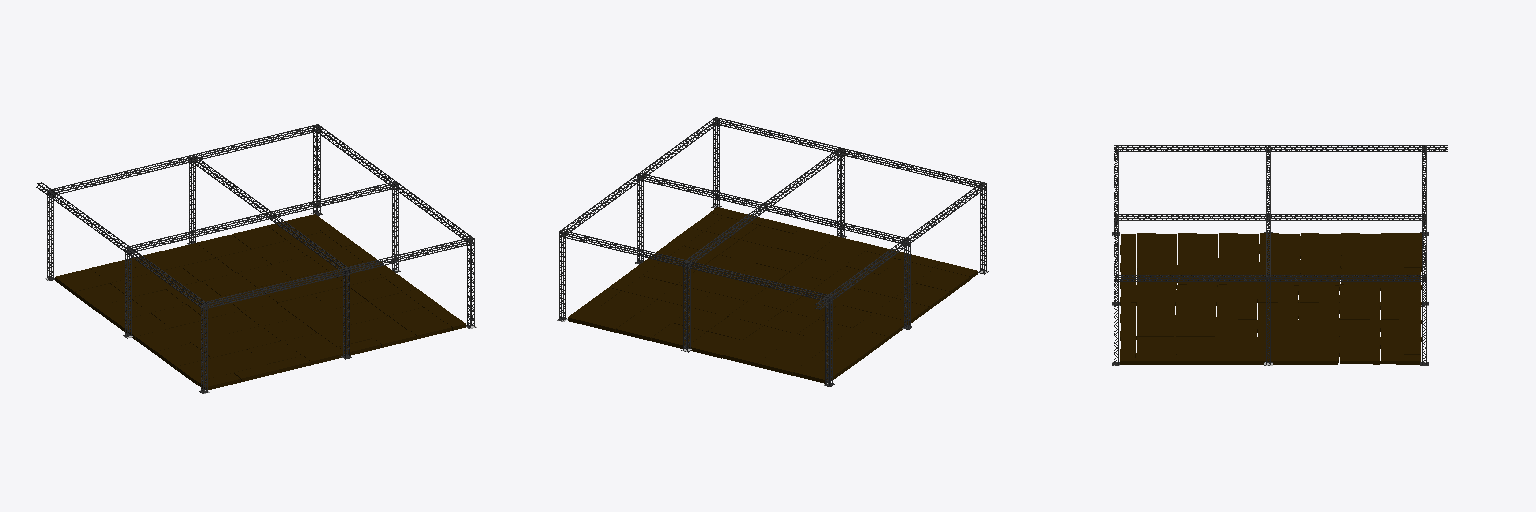
Rendered from airlab_cage.obj.
3 views of the same model, side by side, from view 1: azimuth 30°, elevation 25°; view 2: azimuth 150°, elevation 25°; view 3: azimuth 270°, elevation 25° (orthographic).
Parts seen in each view (by area): view 1: SM_foam_madress14_SM_foam_madress, SM_foam_madress26_SM_foam_madress, SM_foam_madress23_SM_foam_madress, SM_foam_madress27_SM_foam_madress, SM_foam_madress16_SM_foam_madress, SM_foam_madress54_SM_foam_madress, SM_foam_madress55_SM_foam_madress, SM_foam_madress29_SM_foam_madress, SM_foam_madress20_SM_foam_madress, SM_foam_madress30_SM_foam_madress, SM_foam_madress39_SM_foam_madress, SM_foam_madress15_SM_foam_madress (+28 smaller); view 2: SM_foam_madress17_SM_foam_madress, SM_foam_madress16_SM_foam_madress, SM_foam_madress4_SM_foam_madress, SM_foam_madress12_SM_foam_madress, SM_foam_madress13_SM_foam_madress, SM_foam_madress28_SM_foam_madress, SM_foam_madress24_SM_foam_madress, SM_foam_madress25_SM_foam_madress, SM_foam_madress14_SM_foam_madress, SM_foam_madress29_SM_foam_madress, SM_foam_madress43_SM_foam_madress, SM_foam_madress27_SM_foam_madress (+28 smaller); view 3: SM_foam_madress49_SM_foam_madress, SM_foam_madress39_SM_foam_madress, SM_foam_madress15_SM_foam_madress, SM_foam_madress30_SM_foam_madress, SM_foam_madress4_SM_foam_madress, SM_foam_madress48_SM_foam_madress, SM_foam_madress24_SM_foam_madress, SM_foam_madress50_SM_foam_madress, SM_foam_madress6_SM_foam_madress, SM_foam_madress17_SM_foam_madress, SM_foam_madress52_SM_foam_madress, SM_foam_madress26_SM_foam_madress (+28 smaller).
Boxes of the visible parts, box(x1,y1,x2,y2) form: SM_foam_madress14_SM_foam_madress: box(55, 268, 109, 294); SM_foam_madress26_SM_foam_madress: box(136, 328, 189, 354); SM_foam_madress23_SM_foam_madress: box(75, 284, 128, 309); SM_foam_madress27_SM_foam_madress: box(156, 343, 210, 369); SM_foam_madress16_SM_foam_madress: box(232, 226, 286, 249); SM_foam_madress54_SM_foam_madress: box(348, 277, 402, 300); SM_foam_madress55_SM_foam_madress: box(368, 292, 422, 315); SM_foam_madress29_SM_foam_madress: box(181, 258, 234, 281); SM_foam_madress20_SM_foam_madress: box(247, 341, 301, 364); SM_foam_madress30_SM_foam_madress: box(202, 273, 256, 295); SM_foam_madress39_SM_foam_madress: box(217, 250, 270, 272); SM_foam_madress15_SM_foam_madress: box(196, 235, 250, 257); SM_foam_madress17_SM_foam_madress: box(580, 306, 635, 332); SM_foam_madress16_SM_foam_madress: box(616, 314, 670, 340); SM_foam_madress4_SM_foam_madress: box(757, 349, 812, 375); SM_foam_madress12_SM_foam_madress: box(722, 340, 777, 366); SM_foam_madress13_SM_foam_madress: box(688, 332, 741, 358); SM_foam_madress28_SM_foam_madress: box(915, 268, 969, 294); SM_foam_madress24_SM_foam_madress: box(833, 328, 887, 354); SM_foam_madress25_SM_foam_madress: box(854, 313, 907, 339); SM_foam_madress14_SM_foam_madress: box(793, 357, 847, 383); SM_foam_madress29_SM_foam_madress: box(708, 317, 763, 339); SM_foam_madress43_SM_foam_madress: box(756, 248, 809, 271); SM_foam_madress27_SM_foam_madress: box(895, 283, 949, 309); SM_foam_madress49_SM_foam_madress: box(1176, 319, 1216, 336); SM_foam_madress39_SM_foam_madress: box(1339, 302, 1380, 319); SM_foam_madress15_SM_foam_madress: box(1381, 302, 1421, 319); SM_foam_madress30_SM_foam_madress: box(1298, 285, 1339, 302); SM_foam_madress4_SM_foam_madress: box(1381, 250, 1421, 267); SM_foam_madress48_SM_foam_madress: box(1217, 319, 1257, 336); SM_foam_madress24_SM_foam_madress: box(1300, 233, 1340, 250); SM_foam_madress50_SM_foam_madress: box(1136, 319, 1175, 339); SM_foam_madress6_SM_foam_madress: box(1177, 250, 1217, 267); SM_foam_madress17_SM_foam_madress: box(1381, 337, 1421, 354); SM_foam_madress52_SM_foam_madress: box(1299, 337, 1339, 356); SM_foam_madress26_SM_foam_madress: box(1219, 233, 1258, 250).
Size of the model in its own units: 15.41 by 4.85 by 16.34.